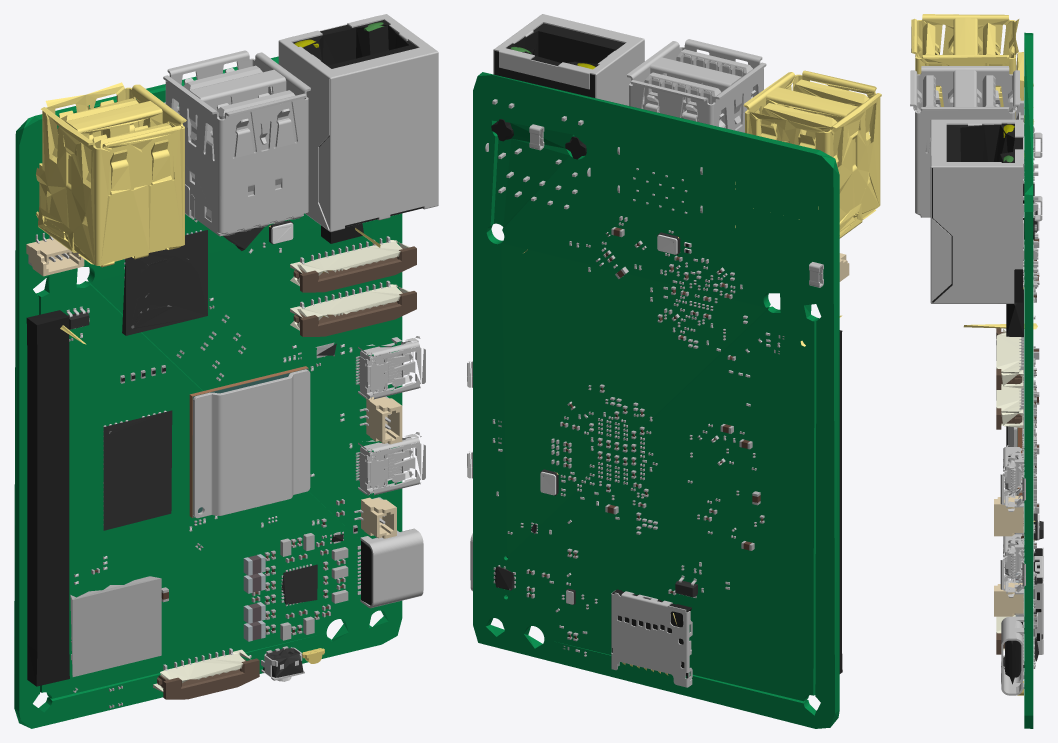
Rendered from pi5-official.glb.
The picture shows the model from 3 angles, left to right: view 1: azimuth 30°, elevation 25°; view 2: azimuth 150°, elevation 25°; view 3: azimuth 270°, elevation 25°; orthographic projection. The views are drawn at different scales.
Parts seen in each view (by area): view 1: geometry_23, geometry_2, geometry_7, geometry_5, geometry_0, geometry_3, geometry_16, geometry_15, geometry_9, geometry_10, geometry_12, geometry_14 (+1 smaller); view 2: geometry_23, geometry_2, geometry_7, geometry_3, geometry_5, geometry_4, geometry_0, geometry_8; view 3: geometry_2, geometry_23, geometry_7, geometry_5, geometry_15, geometry_9, geometry_3, geometry_16, geometry_0.
Part boxes in pixels (x1,y1,x2,y2): geometry_23: (14, 56, 402, 728); geometry_2: (28, 14, 438, 680); geometry_7: (36, 82, 380, 344); geometry_5: (26, 20, 423, 686); geometry_0: (67, 220, 343, 677); geometry_3: (69, 218, 357, 708); geometry_16: (157, 246, 416, 699); geometry_15: (153, 240, 409, 691); geometry_9: (26, 238, 402, 538); geometry_10: (280, 533, 348, 640); geometry_12: (243, 554, 265, 641); geometry_14: (189, 366, 308, 517); geometry_23: (473, 72, 839, 728); geometry_2: (467, 14, 823, 687); geometry_7: (523, 70, 881, 675); geometry_3: (492, 216, 780, 656); geometry_5: (491, 23, 842, 678); geometry_4: (509, 223, 763, 654); geometry_0: (494, 232, 697, 604); geometry_8: (540, 234, 677, 604); geometry_2: (910, 66, 1043, 695); geometry_23: (1024, 32, 1033, 728); geometry_7: (911, 14, 1037, 540); geometry_5: (932, 123, 1042, 684); geometry_15: (996, 328, 1023, 650); geometry_9: (994, 495, 1023, 616); geometry_3: (1014, 203, 1039, 668); geometry_16: (996, 328, 1021, 654); geometry_0: (1001, 210, 1043, 682).
Bounding box in the file's own units: 57.63 × 88.5 × 18.98.
